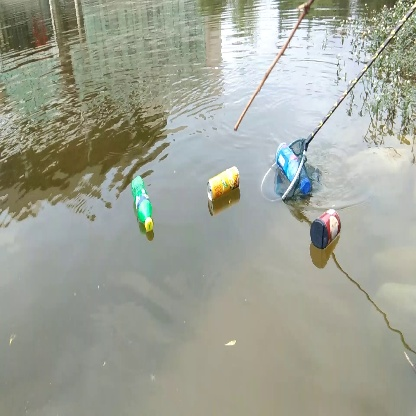bottle: (308, 206, 345, 263), (127, 174, 156, 233), (204, 164, 240, 206)
